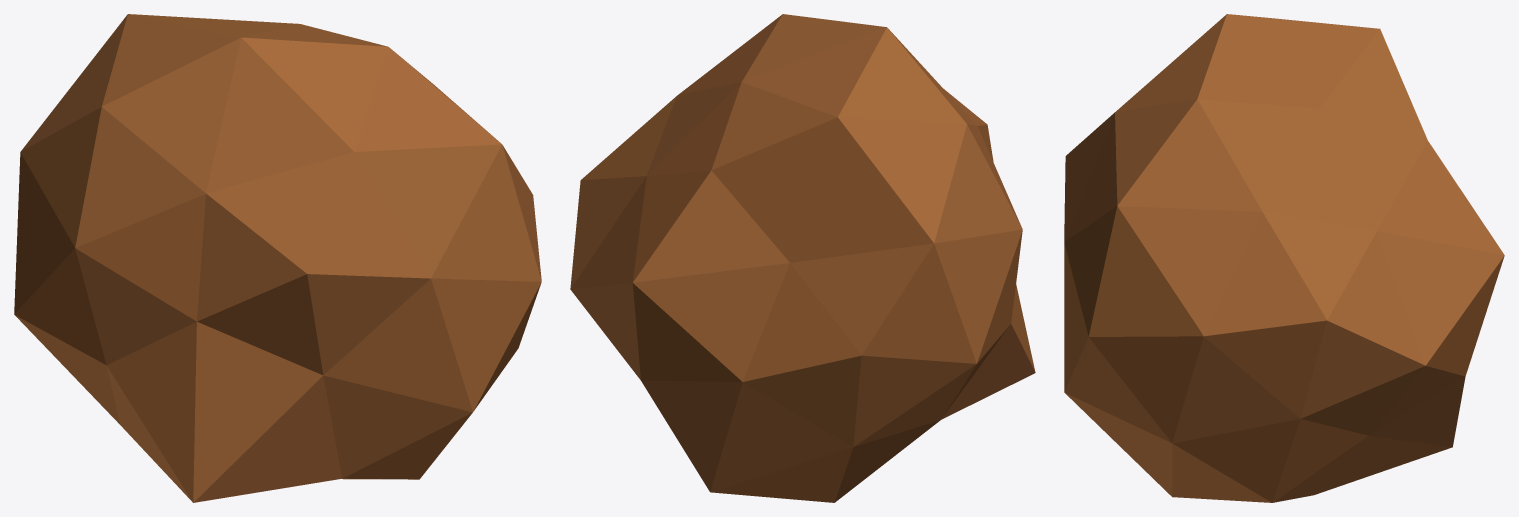
The model's file is boulder3.gltf.
3 views of the same model, side by side, from view 1: azimuth 30°, elevation 25°; view 2: azimuth 150°, elevation 25°; view 3: azimuth 270°, elevation 25° (orthographic). The views are drawn at different scales.
Parts seen in each view (by area): view 1: Icosphere.001; view 2: Icosphere.001; view 3: Icosphere.001.
Part boxes in pixels (<box>): Icosphere.001: <box>14,14,541,502</box>; Icosphere.001: <box>570,14,1035,502</box>; Icosphere.001: <box>1064,14,1504,502</box>.
Bounding box in the file's own units: 8.06 × 8.17 × 7.55.
